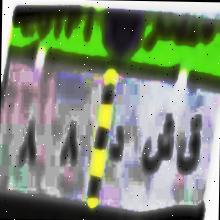8: (18, 118, 38, 176), (60, 120, 77, 174)
daal: (108, 120, 124, 168)
qaaf: (177, 109, 202, 178)
sheen: (140, 110, 176, 180)
